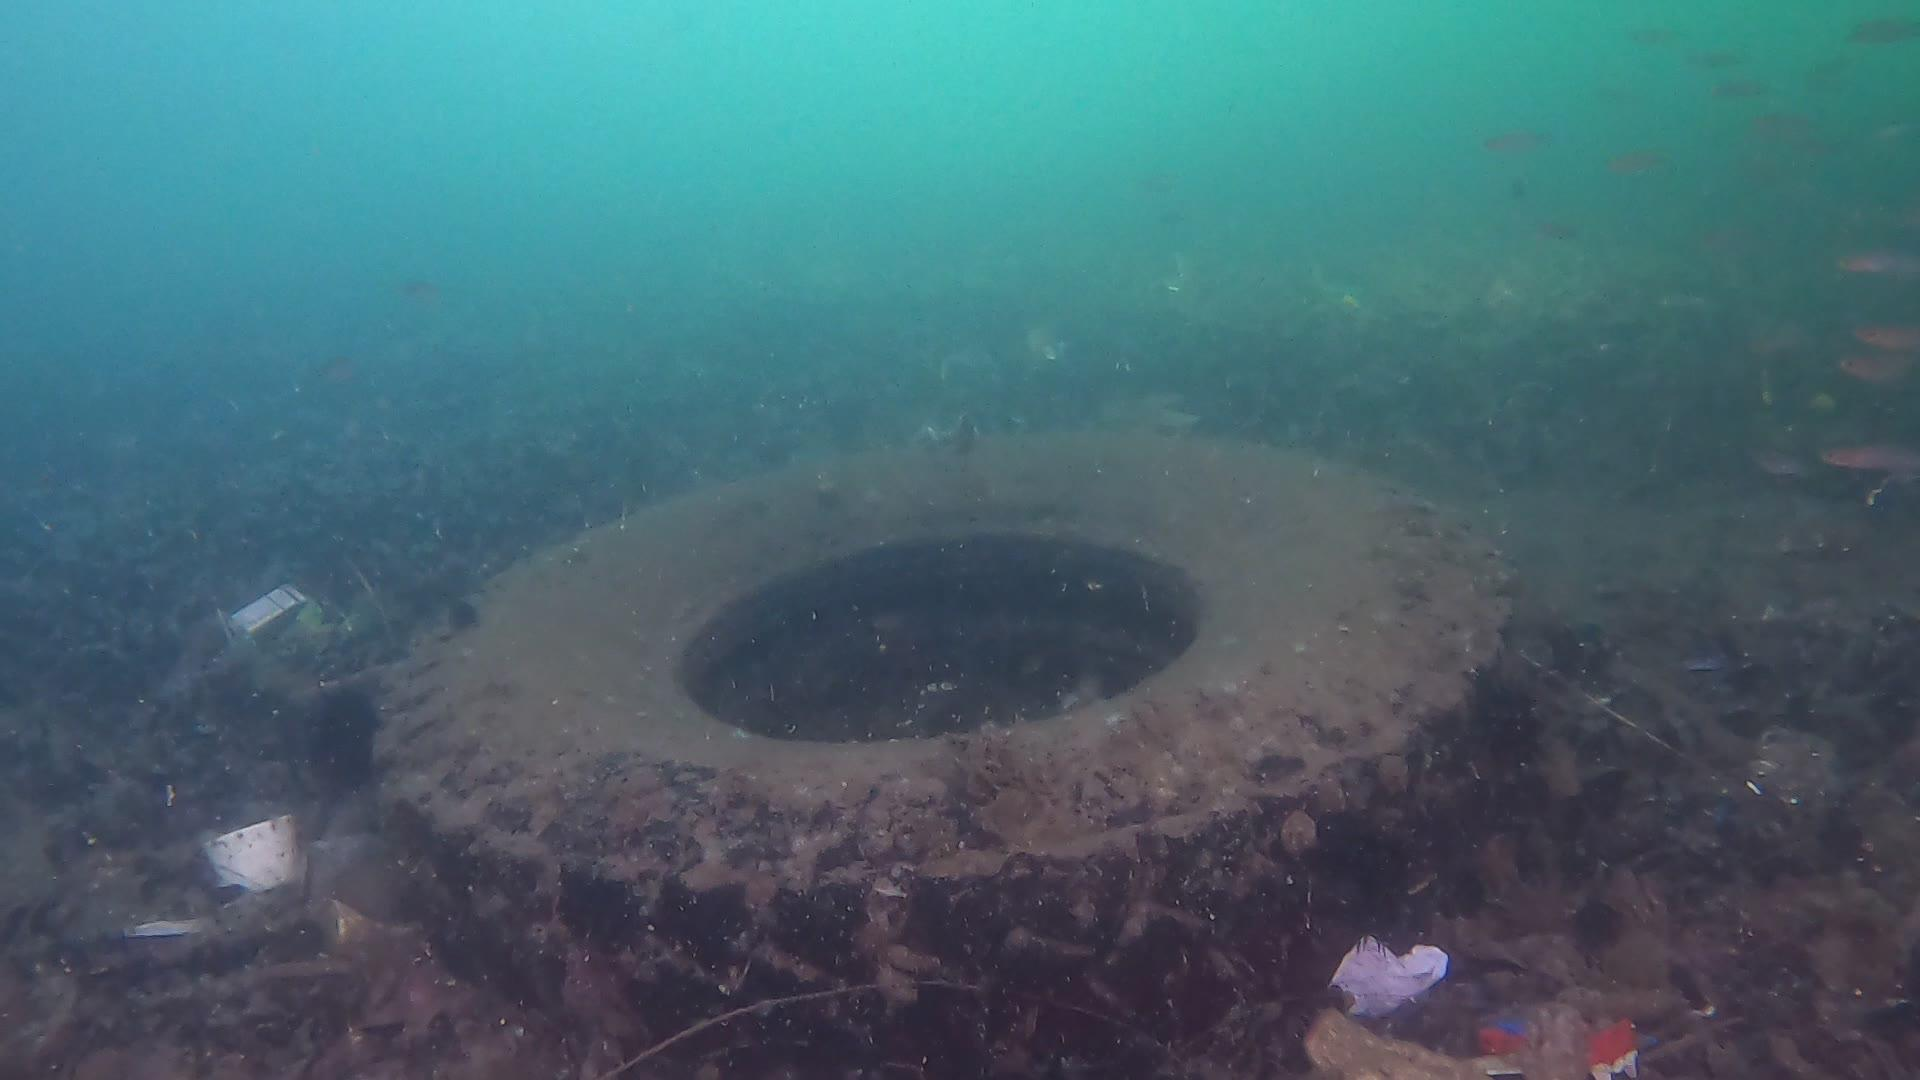tire: (363, 426, 1513, 1073)
